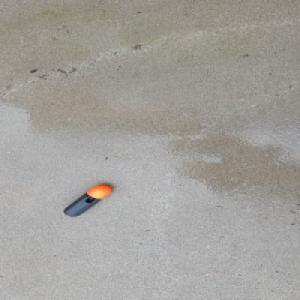PlasticPart: (63, 184, 112, 217)
